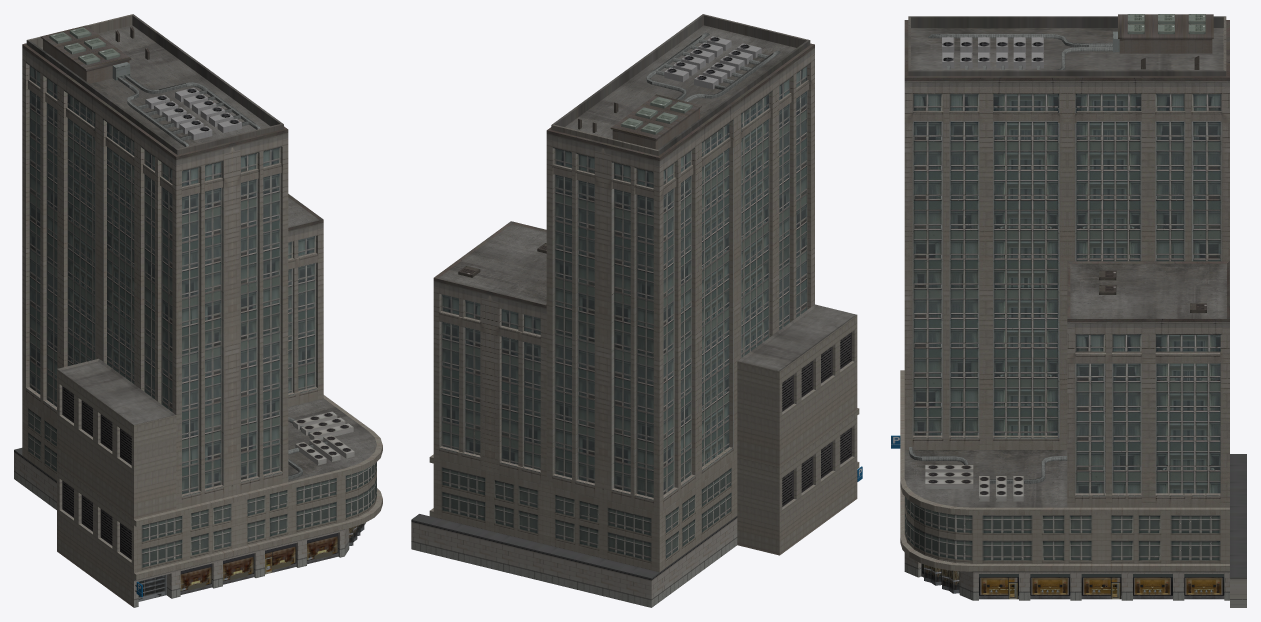
Rendered from midrise_w2w_office_aitortilla01_nobrand.glb.
3 views of the same model, side by side, from view 1: azimuth 30°, elevation 25°; view 2: azimuth 150°, elevation 25°; view 3: azimuth 270°, elevation 25° (orthographic). The views are drawn at different scales.
Visible parts, largest first — view 1: AIT01W2W7; view 2: AIT01W2W7; view 3: AIT01W2W7.
Boxes of the visible parts, x1,y1,x2,y2 form: AIT01W2W7: (14,14,382,607); AIT01W2W7: (411,14,862,607); AIT01W2W7: (891,14,1246,607).
Bounding box in the file's own units: 3200 × 4945 × 3329.
1 material, 1 textured.
